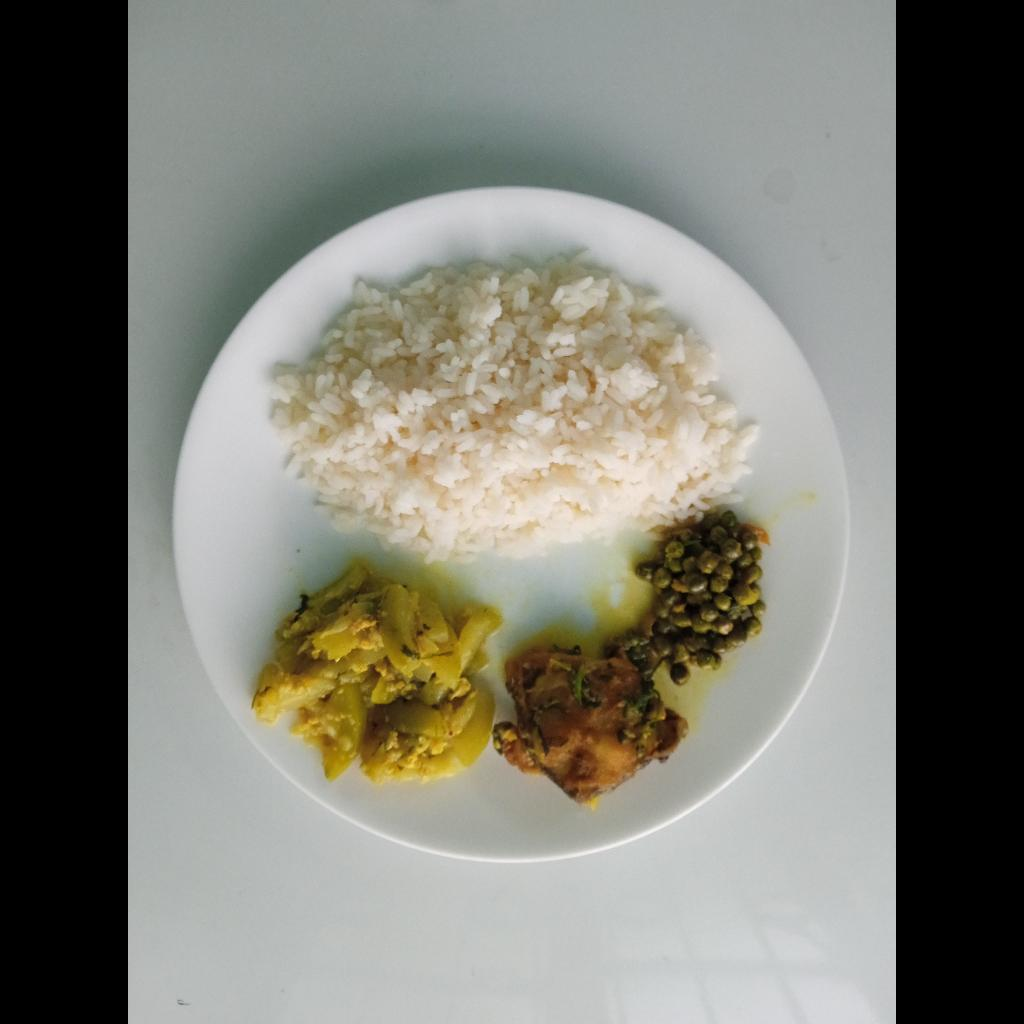fish: (500, 655, 687, 805)
green-pea: (620, 510, 767, 677)
lau: (257, 582, 499, 783)
rice: (278, 262, 759, 551)
